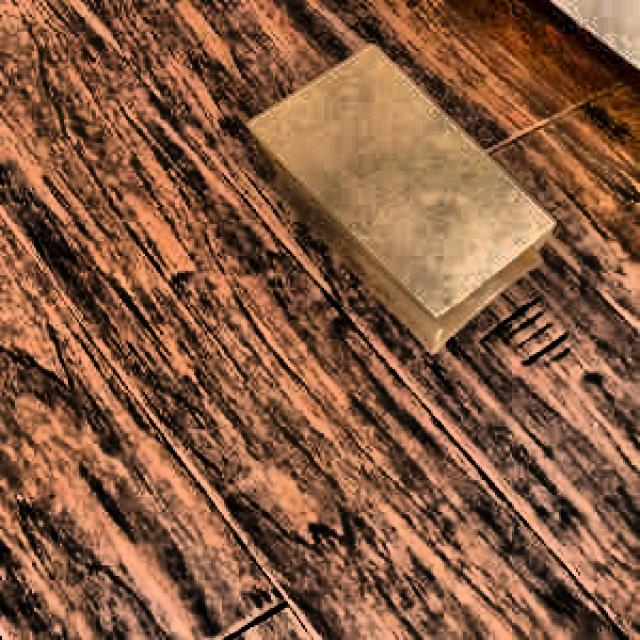Paper-bag: (238, 34, 564, 360)
